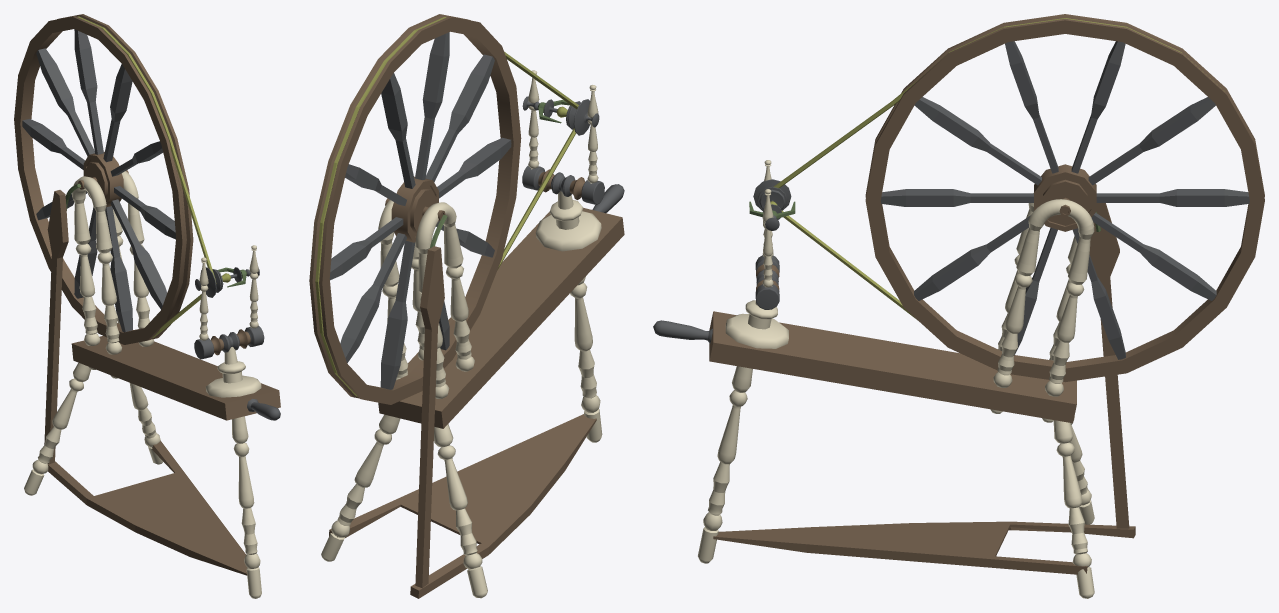
The model's file is P_spinnrock_01_LD.fbx.
The picture shows the model from 3 angles, left to right: view 1: azimuth 30°, elevation 25°; view 2: azimuth 150°, elevation 25°; view 3: azimuth 270°, elevation 25°; orthographic projection. The views are drawn at different scales.
Parts seen in each view (by area): view 1: P_spinnrock_01; view 2: P_spinnrock_01; view 3: P_spinnrock_01.
Part boxes in pixels (bbox=[...]): P_spinnrock_01: bbox=[14, 14, 280, 598]; P_spinnrock_01: bbox=[309, 14, 624, 598]; P_spinnrock_01: bbox=[653, 14, 1264, 598].
Bounding box in the file's own units: 52.13 × 164 × 167.
